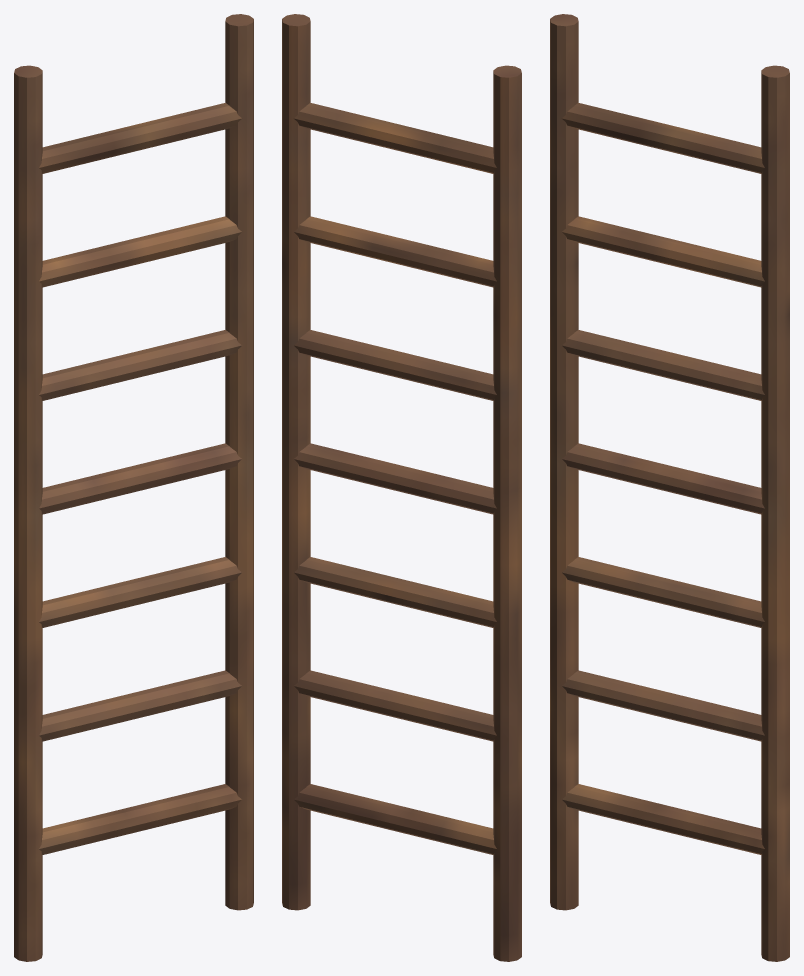
File: MS_Ladder_1.fbx
The picture shows the model from 3 angles, left to right: view 1: azimuth 30°, elevation 25°; view 2: azimuth 150°, elevation 25°; view 3: azimuth 330°, elevation 25°; orthographic projection.
Parts seen in each view (by area): view 1: Cylinder.001; view 2: Cylinder.001; view 3: Cylinder.001.
Boxes of the visible parts, left/top/right/bottom form: Cylinder.001: left=14, top=14, right=253, bottom=961; Cylinder.001: left=282, top=14, right=521, bottom=961; Cylinder.001: left=550, top=14, right=789, bottom=961.
Size of the model in its own units: 55.71 by 200 by 6.
